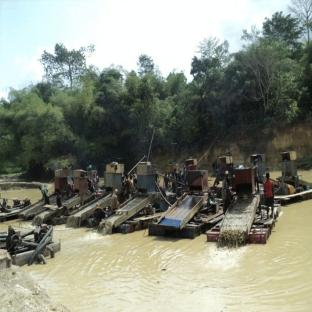ProcessingEquipment: (206, 171, 284, 250), (19, 166, 99, 234), (101, 156, 159, 242), (152, 162, 206, 248)
